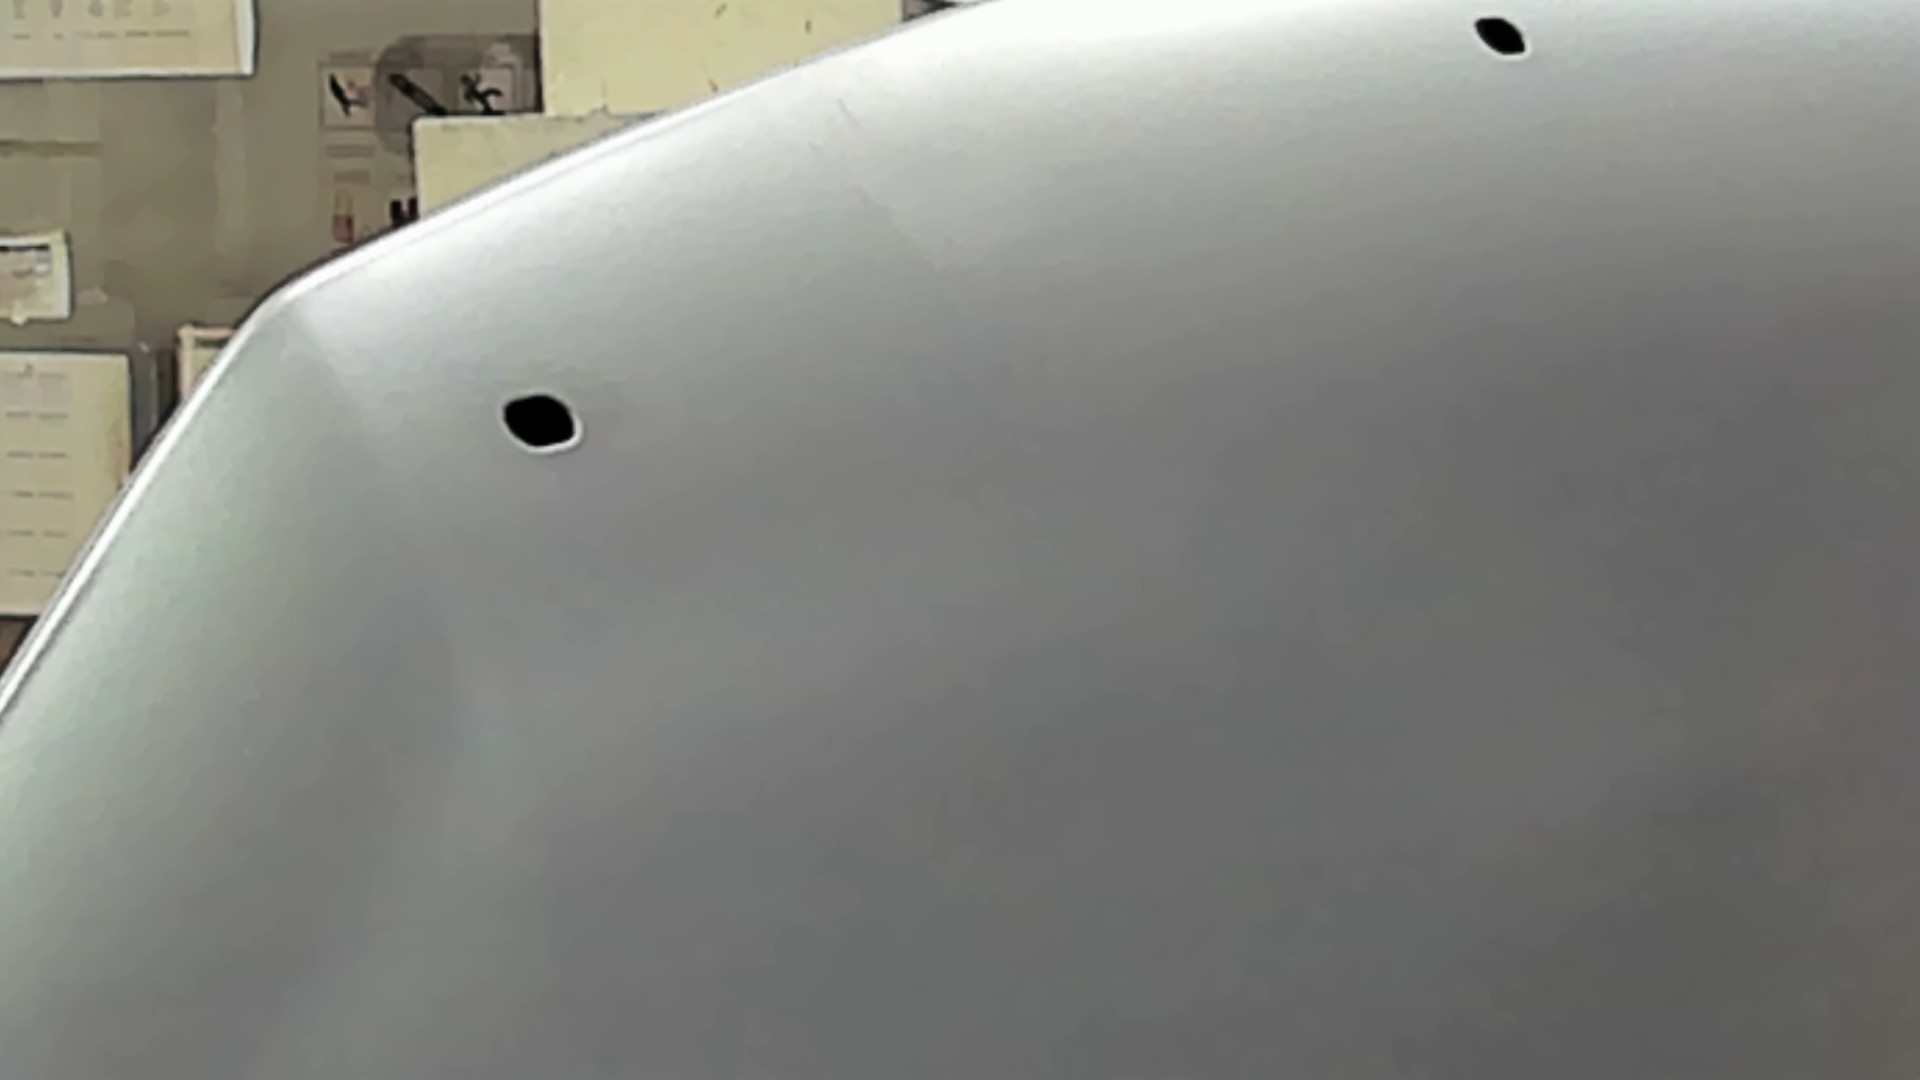amorfo: (491, 388, 591, 459), (1468, 8, 1536, 67)
capo: (680, 164, 1920, 1080)
